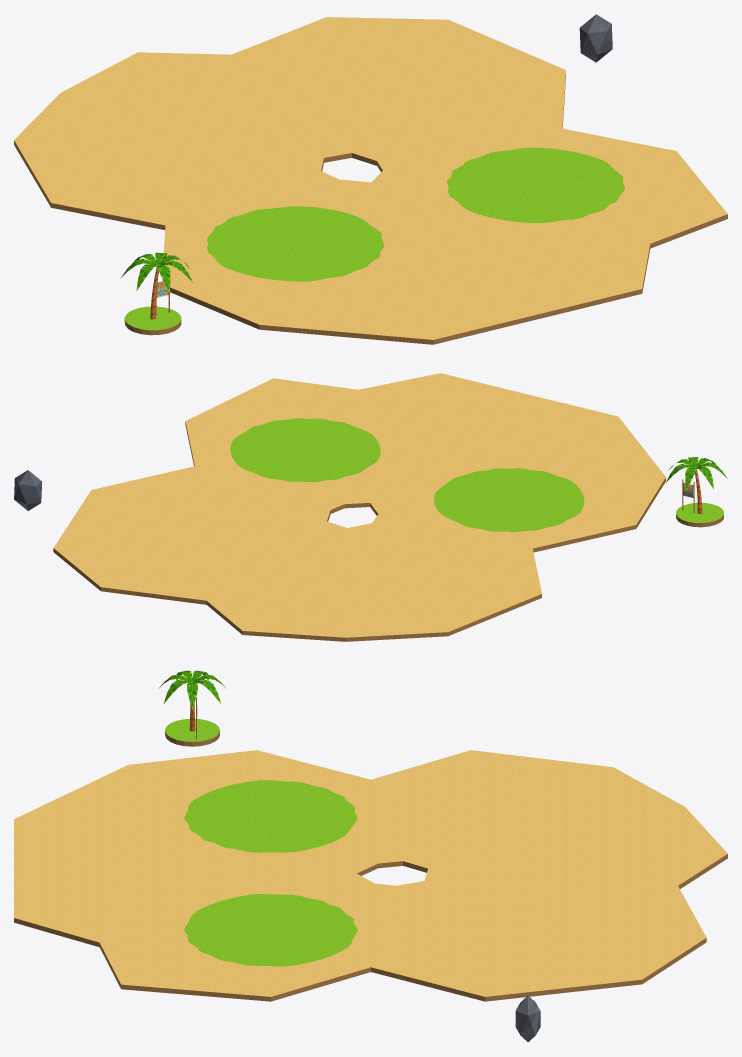
Rendered from surface-22-DIsu77zc.glb.
3 renders of one model, top to bottom at view 1: azimuth 30°, elevation 25°; view 2: azimuth 150°, elevation 25°; view 3: azimuth 270°, elevation 25°, orthographic. The views are drawn at different scales.
Parts seen in each view (by area): view 1: HI_Surface_22, FLC_Regions_22, HI_SceneryIslet_0.011, HI_Palm.010, HI_BasaltOutcrop.011; view 2: HI_Surface_22, FLC_Regions_22, HI_SceneryIslet_0.011, HI_Palm.010, HI_BasaltOutcrop.011; view 3: HI_Surface_22, FLC_Regions_22, HI_SceneryIslet_0.011, HI_Palm.010, HI_BasaltOutcrop.011.
Boxes of the visible parts, x1,y1,x2,y2 form: HI_Surface_22: [14, 17, 727, 344]; FLC_Regions_22: [207, 147, 624, 281]; HI_SceneryIslet_0.011: [124, 306, 181, 335]; HI_Palm.010: [120, 252, 193, 319]; HI_BasaltOutcrop.011: [579, 14, 612, 62]; HI_Surface_22: [53, 373, 665, 641]; FLC_Regions_22: [230, 418, 584, 532]; HI_SceneryIslet_0.011: [676, 502, 723, 527]; HI_Palm.010: [666, 457, 727, 513]; HI_BasaltOutcrop.011: [14, 470, 42, 510]; HI_Surface_22: [14, 750, 727, 1001]; FLC_Regions_22: [184, 780, 357, 966]; HI_SceneryIslet_0.011: [165, 719, 219, 746]; HI_Palm.010: [158, 670, 226, 731]; HI_BasaltOutcrop.011: [515, 996, 540, 1041].
Bounding box in the file's own units: 45.25 × 5.15 × 44.
7 materials, 6 textured.
